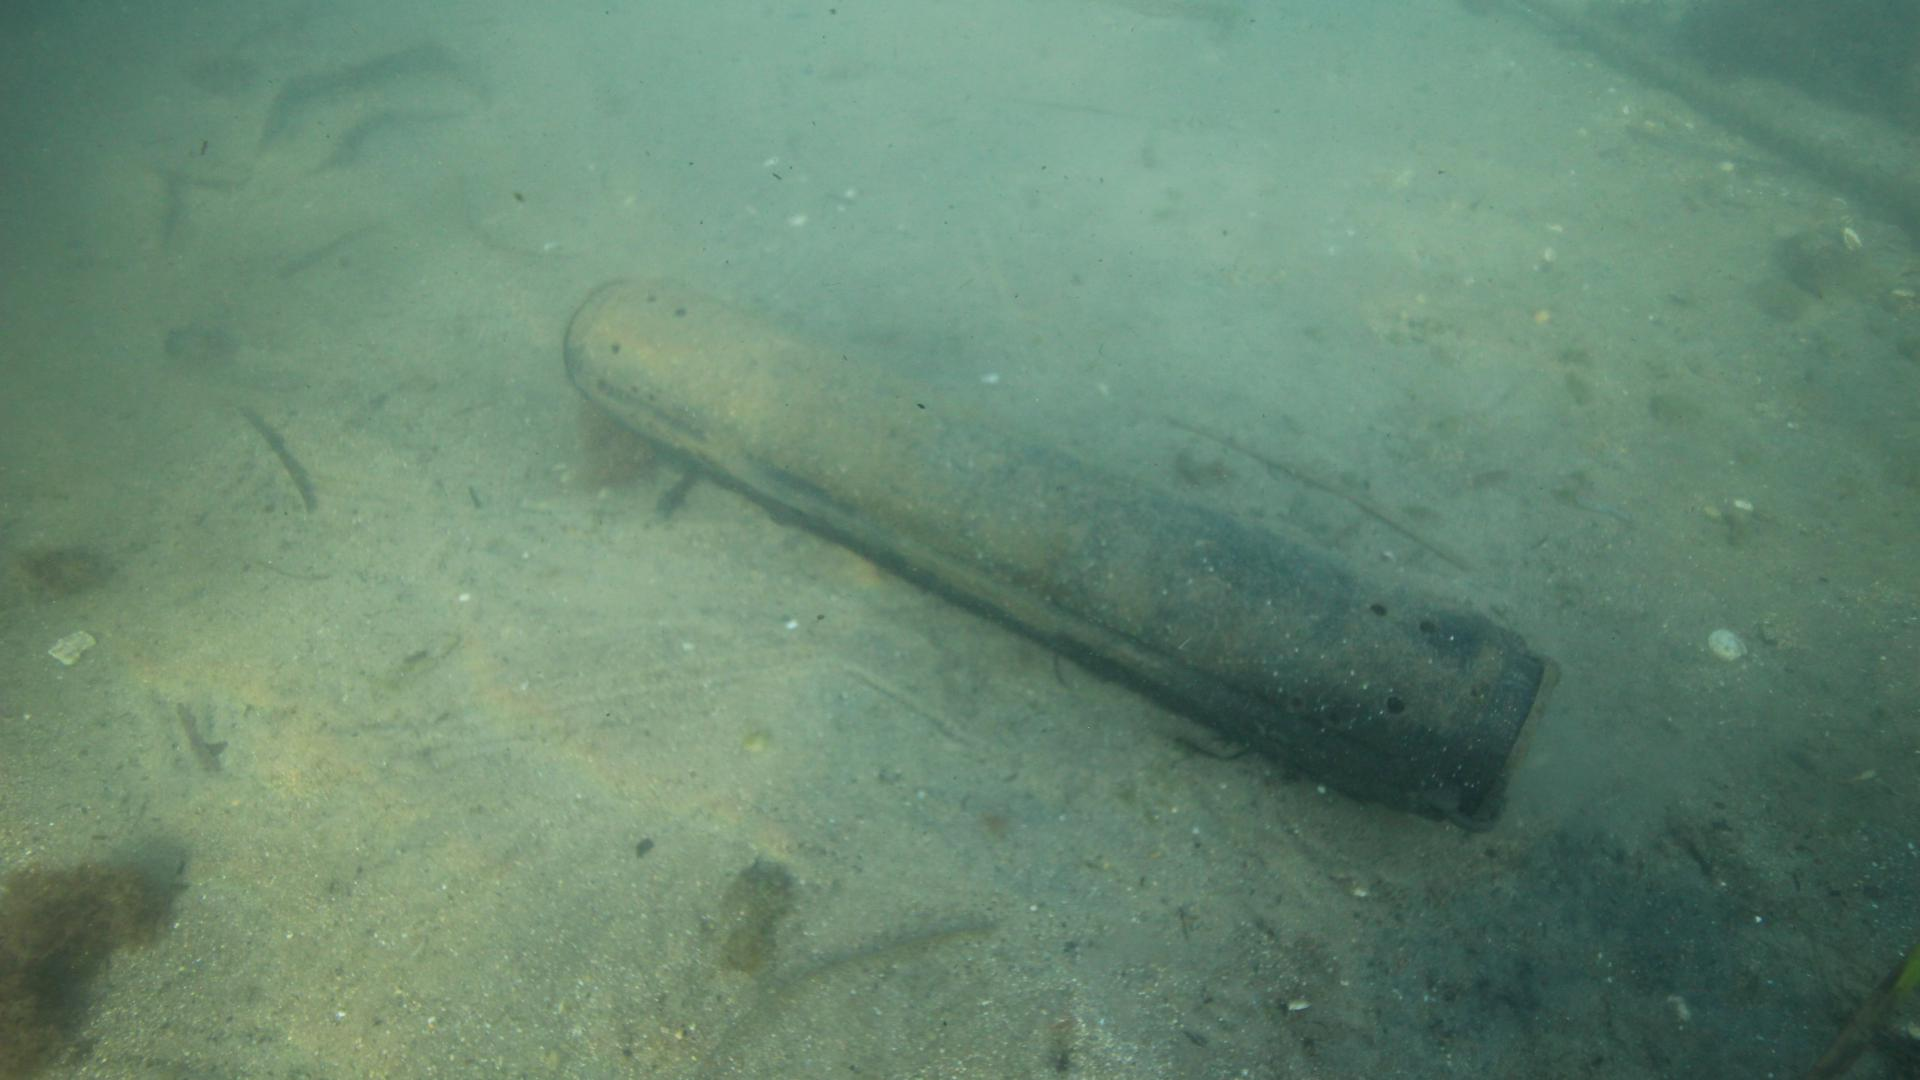eel fish trap: (562, 276, 1556, 835)
